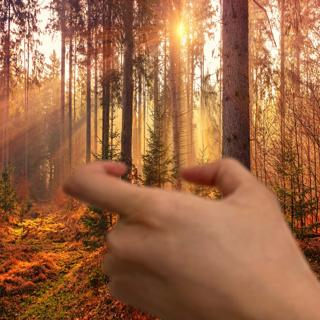HATE: (52, 148, 320, 320)
